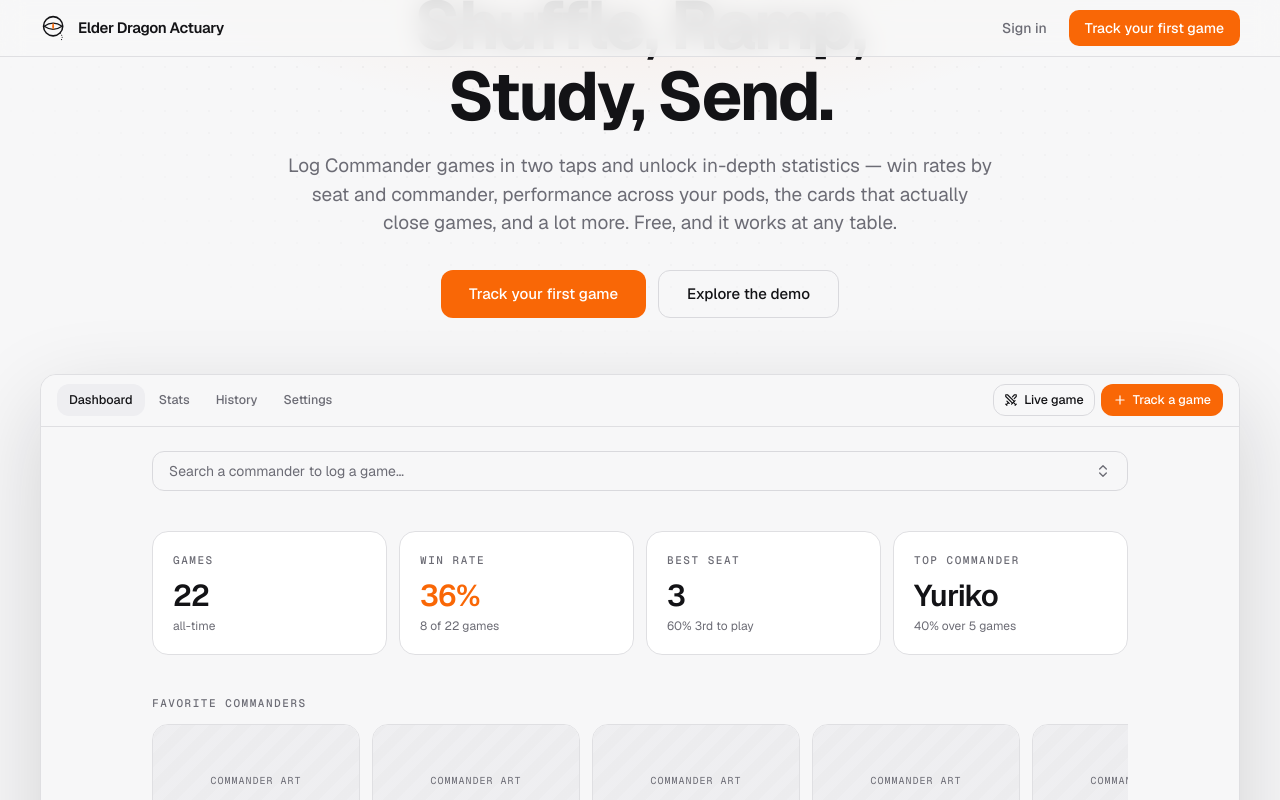
Test: LoggedOutHomePage simulation › switches to the Settings replica
The image size is (1280, 800).
(page scrolled)
Click the button "Settings" at point(308, 400), box [272,384,344,416]
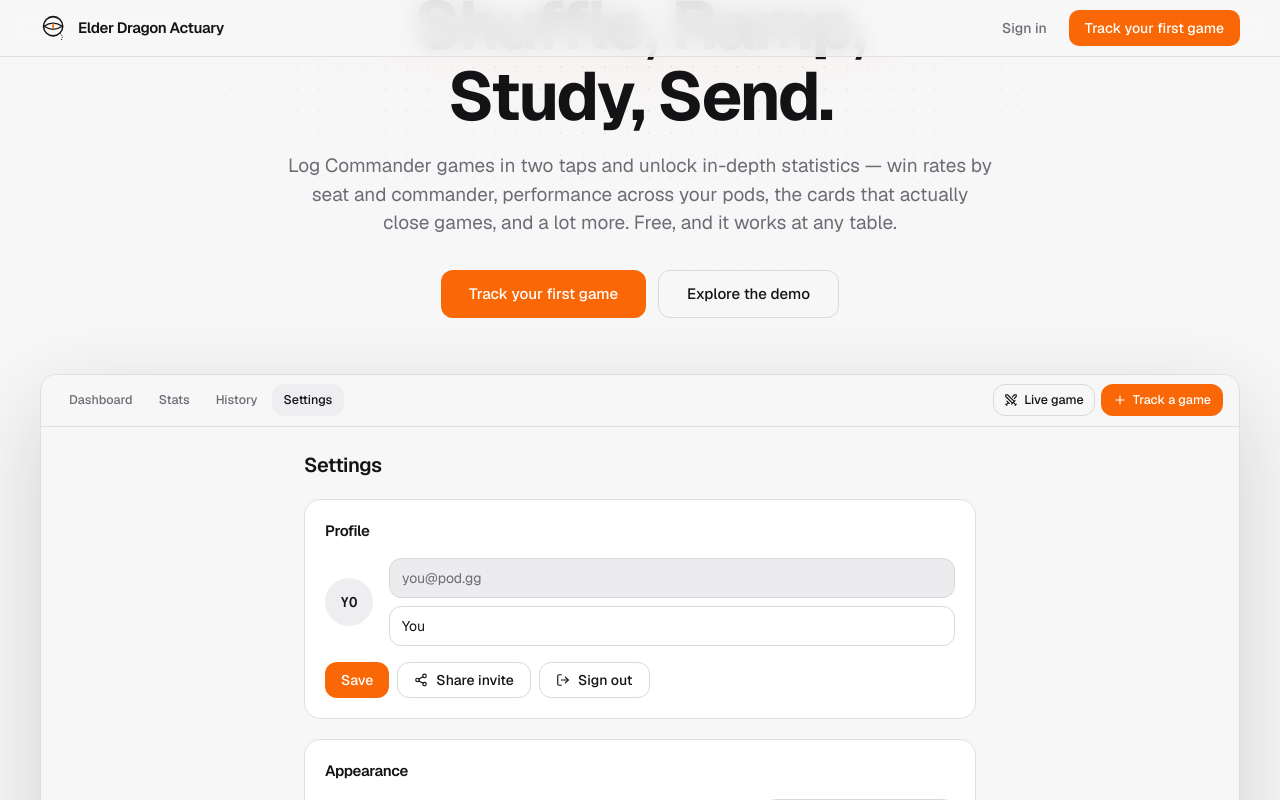
Result: the text "Appearance" is shown at [325,762,408,780]
